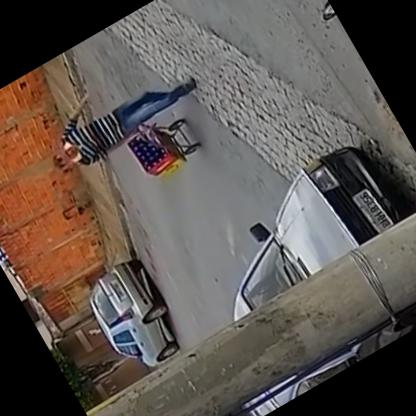Human Body: (22, 34, 216, 192)
